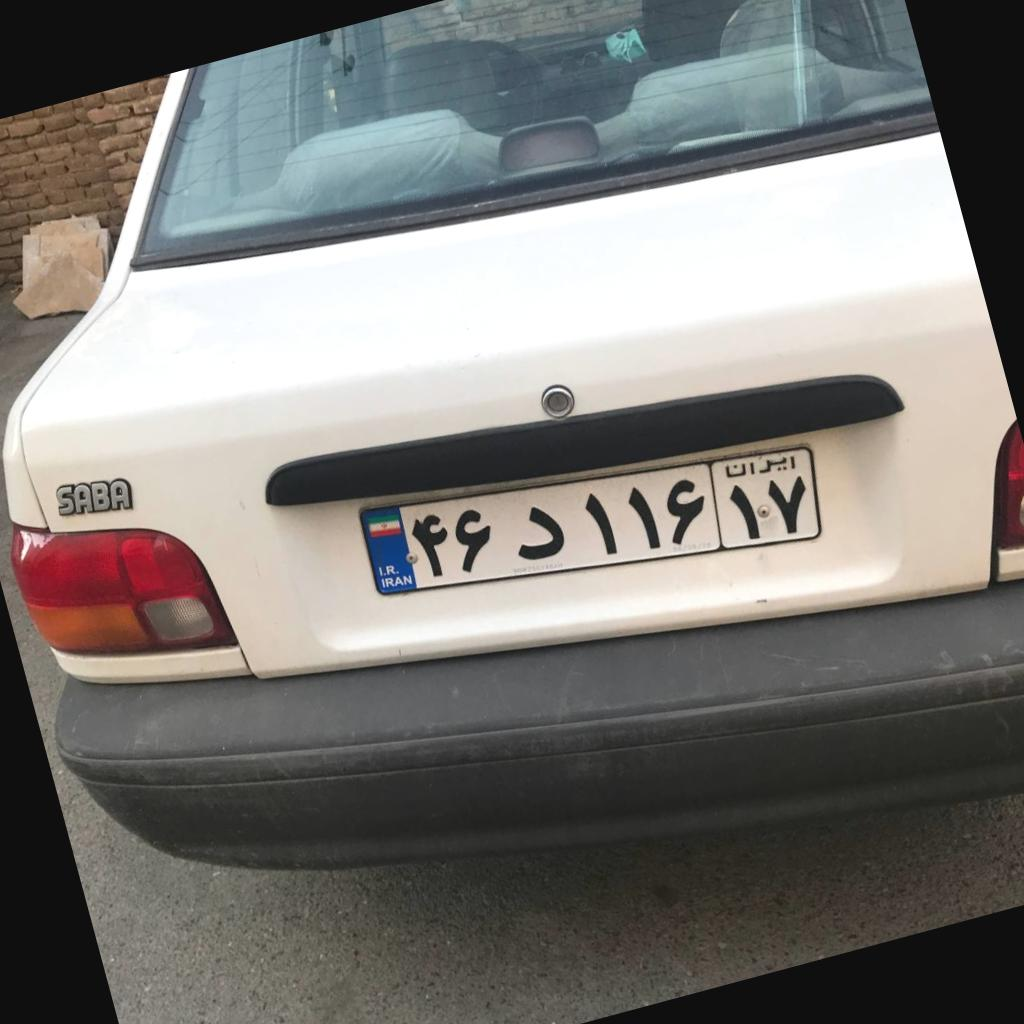Plates: (357, 446, 825, 596)
